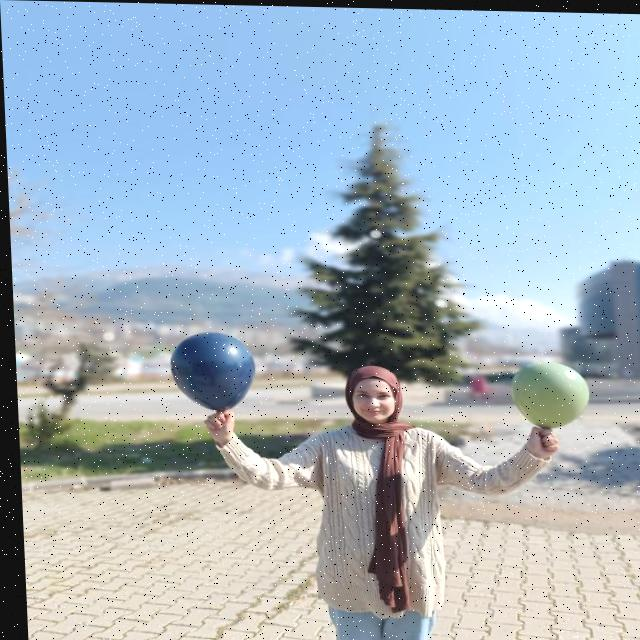balloon: (162, 333, 261, 414), (506, 357, 589, 425)
